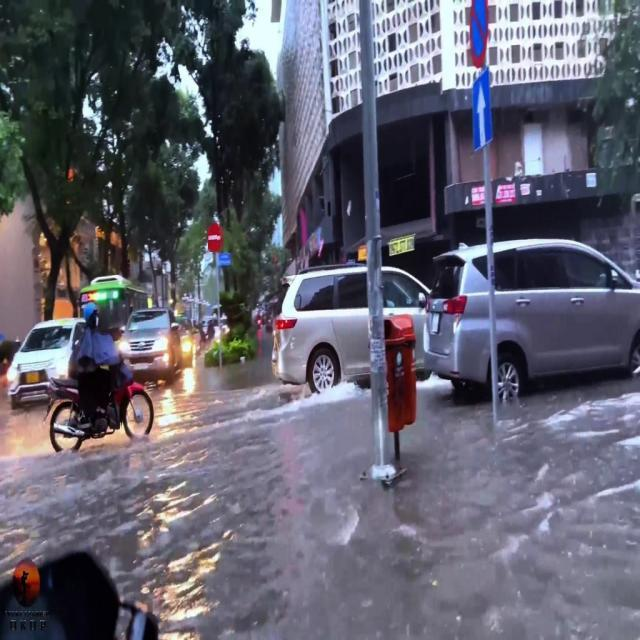102-cam-di-nguoc-chieu: (207, 223, 225, 253)
131a-cam-do-xe: (466, 2, 494, 70)
407a-duong-mot-chieu: (471, 68, 493, 152)
